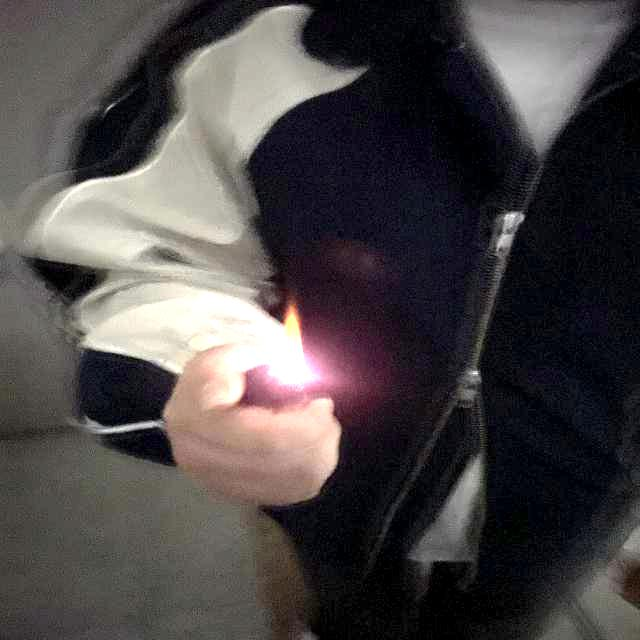fire: (279, 302, 305, 382)
